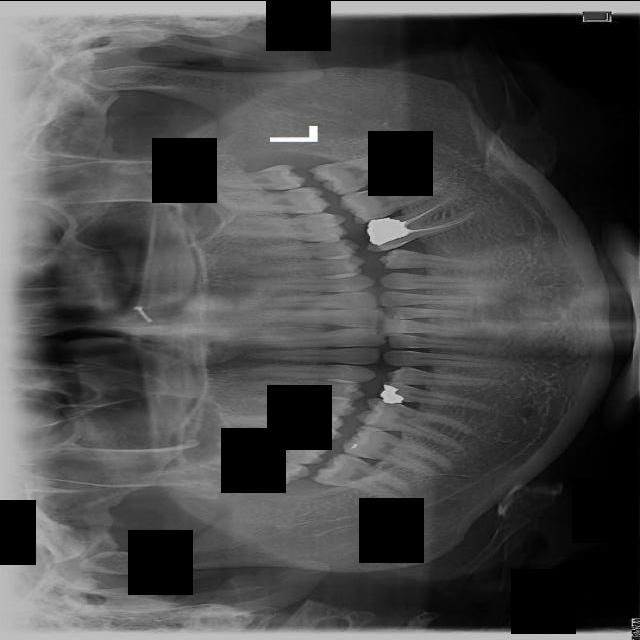74: (404, 211, 474, 236), (403, 197, 454, 226)
NucleOSS Implant: (362, 207, 411, 249), (379, 383, 404, 405), (350, 441, 359, 450)
Sterngold Implant: (381, 400, 403, 409), (368, 421, 388, 429)
